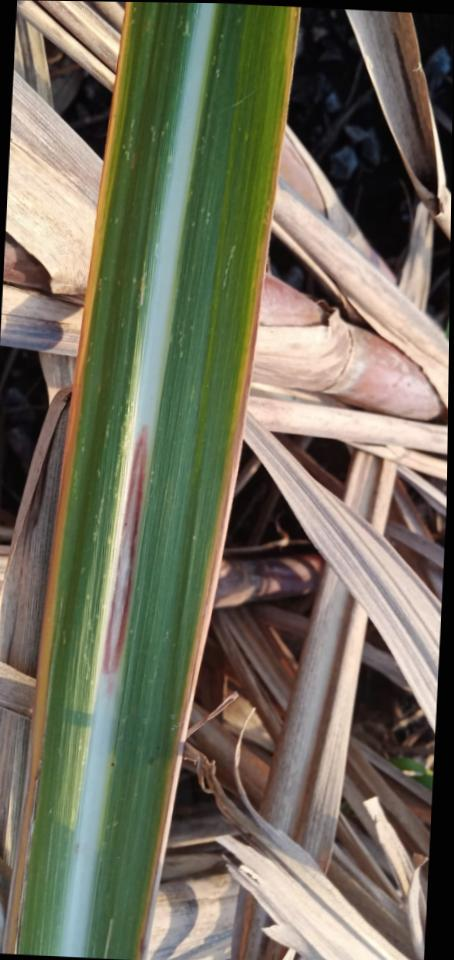RedRot: (101, 419, 147, 696)
